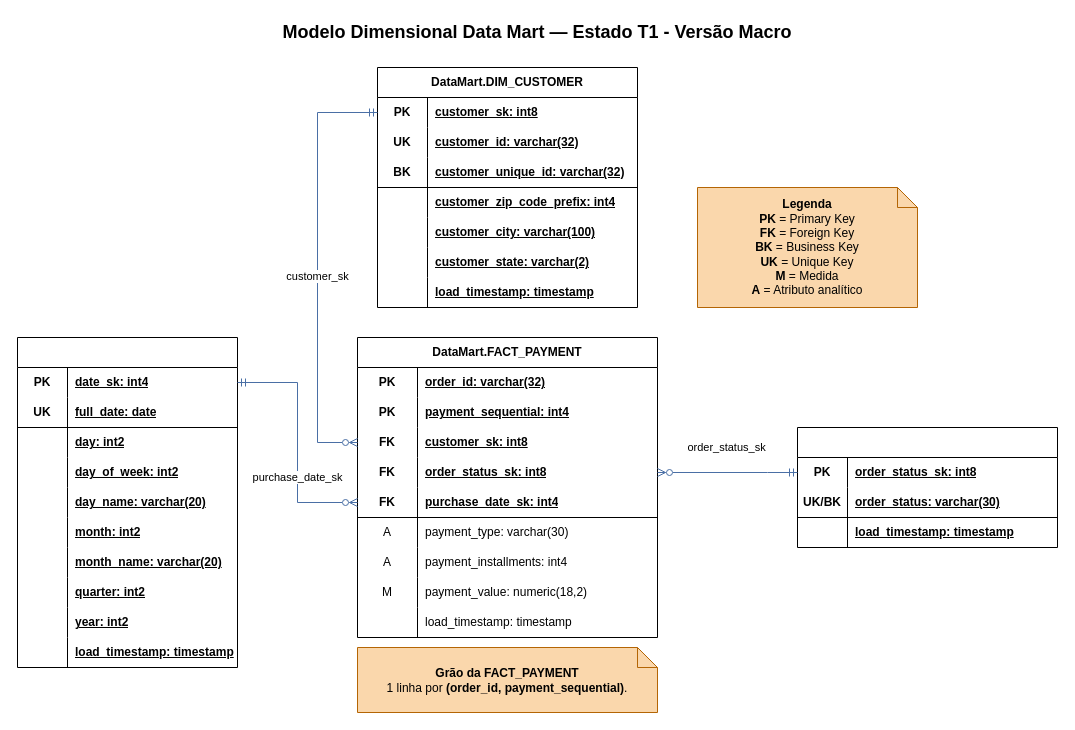
The diagram is 1075 pixels wide and 730 high, and some of its shapes have lost their labels. Each missing label, with the box of its shape:
DataMart.DIM_DATE: (16, 336, 238, 668)
DataMart.DIM_ORDER_STATUS: (796, 426, 1058, 548)
